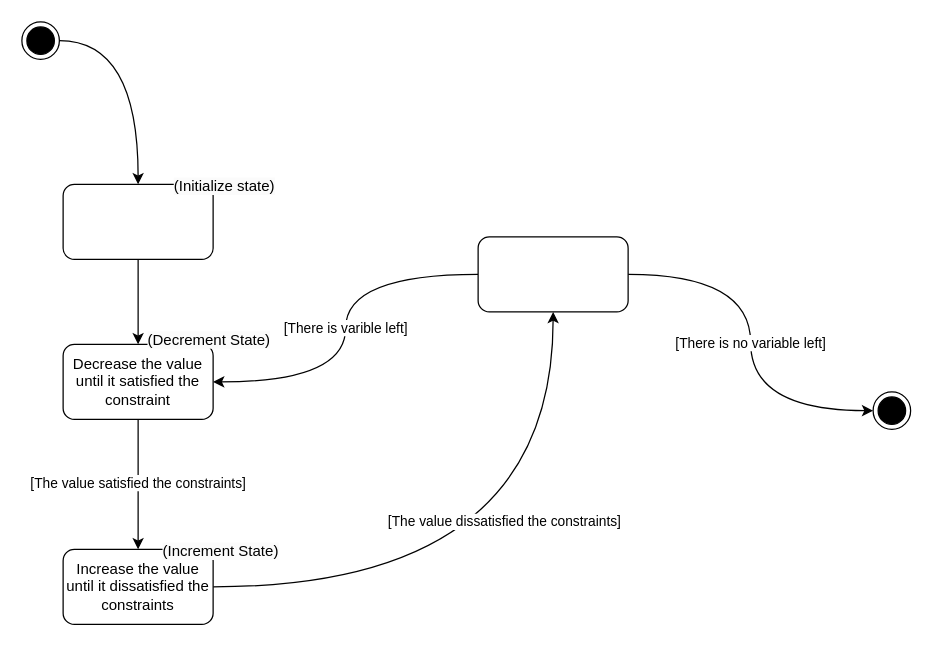
Some shapes in this 933 by 646 pixel diagram are drawn without their labels. The centre of each missing label's shape, as x and y in pixels:
"Change varible" goes at (552,274).
"Initialize the variables" goes at (137,221).
